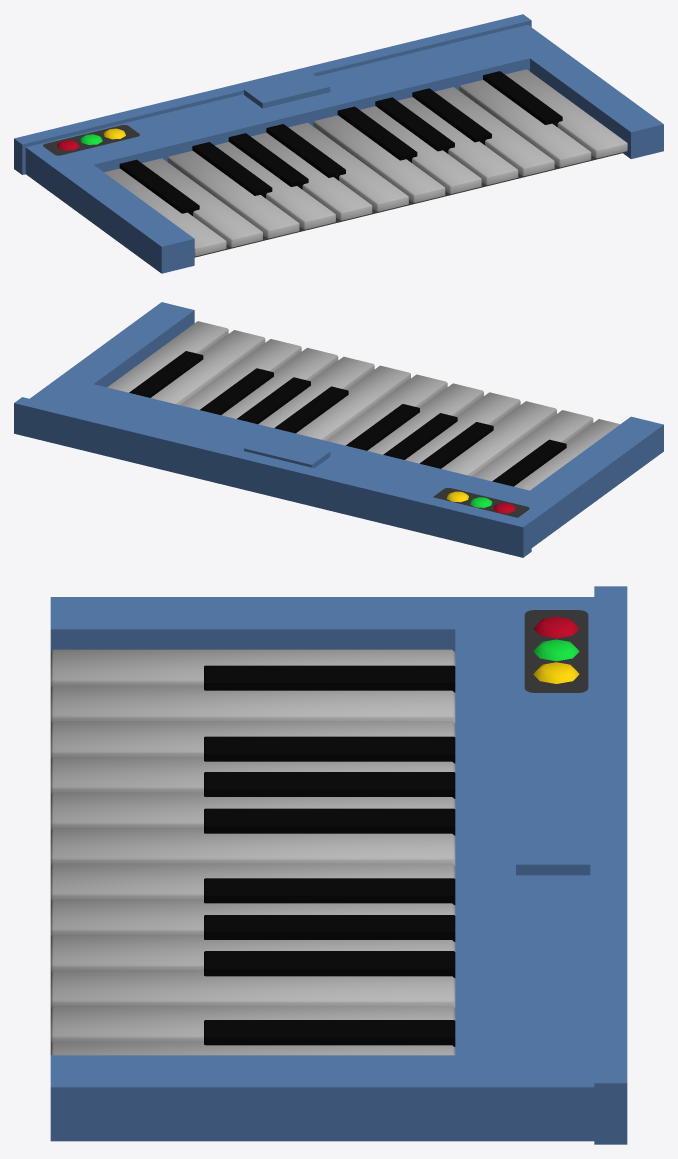
Rendered from Piano.fbx.
3 renders of one model, top to bottom at view 1: azimuth 30°, elevation 25°; view 2: azimuth 150°, elevation 25°; view 3: azimuth 270°, elevation 25°, orthographic. The views are drawn at different scales.
Parts seen in each view (by area): view 1: Piano, Button.002, Button.006, Button.010, Button.011, Button.001, Button.005, Button.009, Button.004, Button.007, Button.008, Button.003 (+1 smaller); view 2: Piano, Button.002, Button.006, Button.010, Button.011, Button.001, Button.005, Button.009, Button.004, Button.007, Button.008, Button.003 (+1 smaller); view 3: Piano, Button.005, Button.001, Button.009, Button, Button.002, Button.006, Button.010, Button.007, Button.004, Button.003, Button.008 (+1 smaller).
Part boxes in pixels (<box>): Piano: <box>14,14,663,273</box>; Button.002: <box>167,150,299,238</box>; Button.006: <box>313,115,445,202</box>; Button.010: <box>459,80,591,167</box>; Button.011: <box>505,69,627,158</box>; Button.001: <box>142,158,262,247</box>; Button.005: <box>288,122,408,211</box>; Button.009: <box>434,87,554,176</box>; Button.004: <box>251,132,372,220</box>; Button.007: <box>360,106,481,193</box>; Button.008: <box>397,97,518,184</box>; Button.003: <box>215,142,335,229</box>; Piano: <box>14,302,663,557</box>; Button.002: <box>441,401,556,476</box>; Button.006: <box>296,365,410,440</box>; Button.010: <box>151,330,265,404</box>; Button.011: <box>107,321,228,392</box>; Button.001: <box>472,410,593,481</box>; Button.005: <box>326,374,447,445</box>; Button.009: <box>180,339,301,409</box>; Button.004: <box>367,383,483,454</box>; Button.007: <box>258,356,374,427</box>; Button.008: <box>221,347,338,418</box>; Button.003: <box>405,392,520,463</box>; Piano: <box>50,586,627,1144</box>; Button.005: <box>50,827,455,865</box>; Button.001: <box>50,685,455,723</box>; Button.009: <box>50,970,455,1007</box>; Button: <box>50,649,455,687</box>; Button.002: <box>50,721,455,758</box>; Button.006: <box>50,863,455,900</box>; Button.010: <box>50,1005,455,1043</box>; Button.007: <box>50,899,455,936</box>; Button.004: <box>50,792,455,829</box>; Button.003: <box>50,756,455,794</box>; Button.008: <box>50,934,455,972</box>.
Bounding box in the file's own units: 130 × 7.87 × 63.66.
